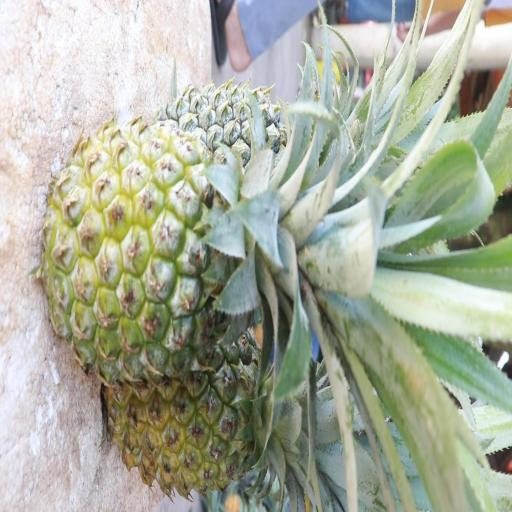------------------------------: (46, 122, 386, 374)
Pineapple - v8 v1: (109, 328, 327, 500)
